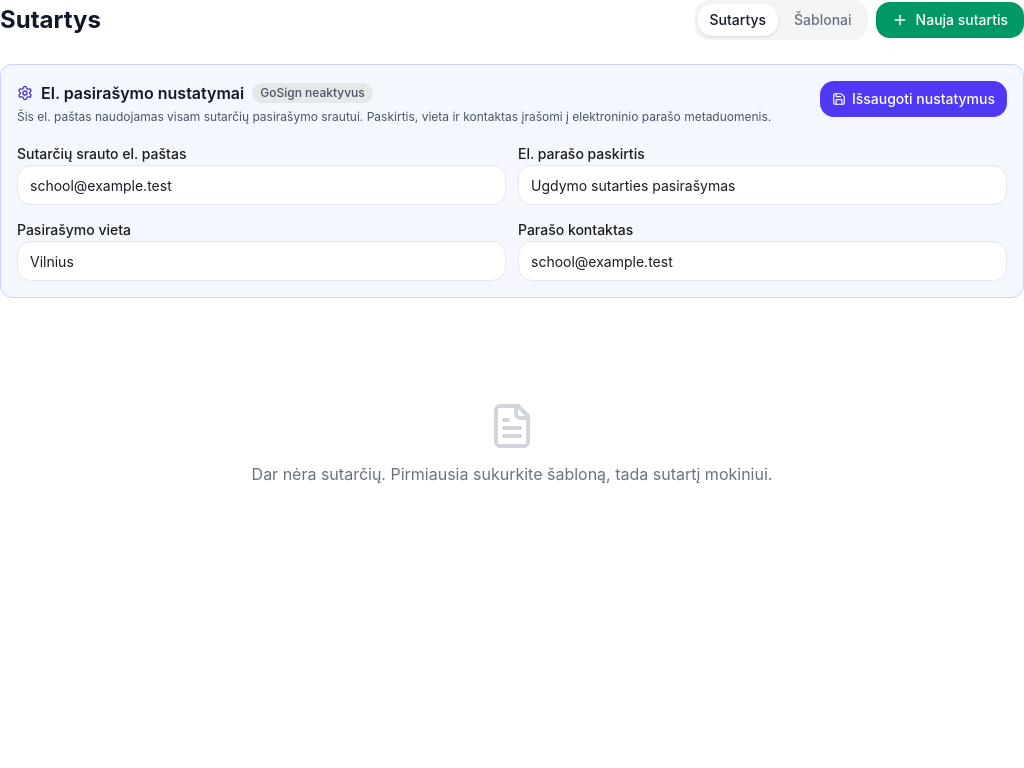
Test: CompanyContracts 20% discount checkbox › shows the discounted amount when checked (default 300 → 240.00)
Click the button "Nauja sutartis": (950, 20) top-left (876, 2), bottom-right (1023, 38)
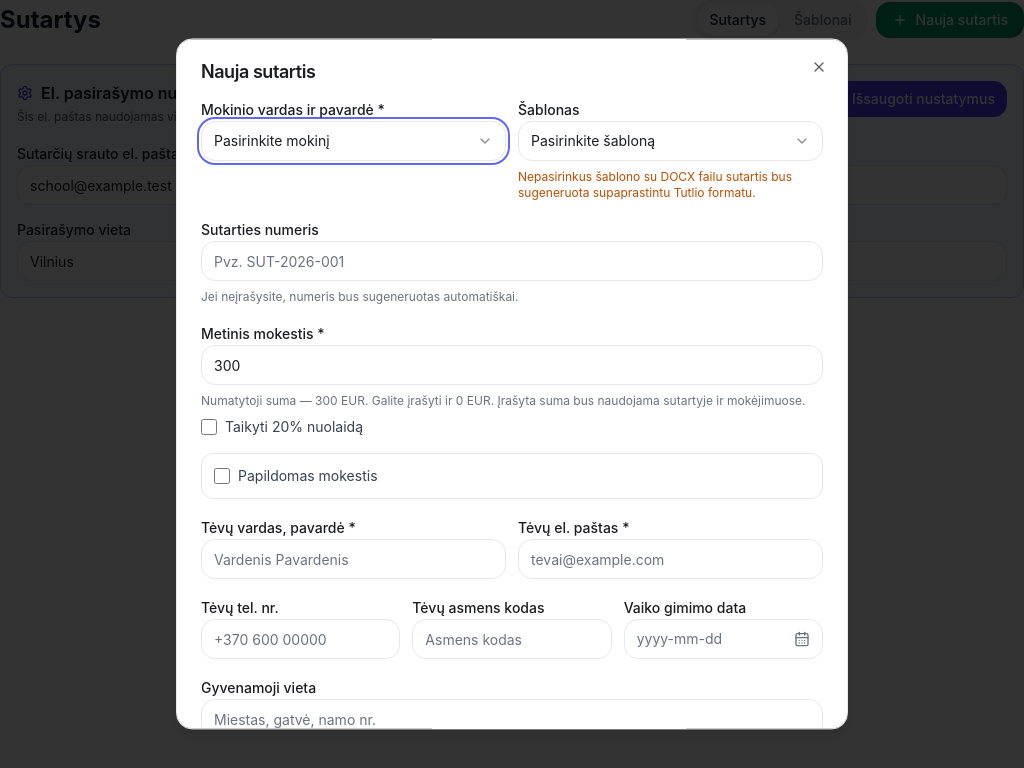
Click the checkbox labelled "Taikyti 20% nuolaidą": (209, 427) top-left (201, 419), bottom-right (217, 435)
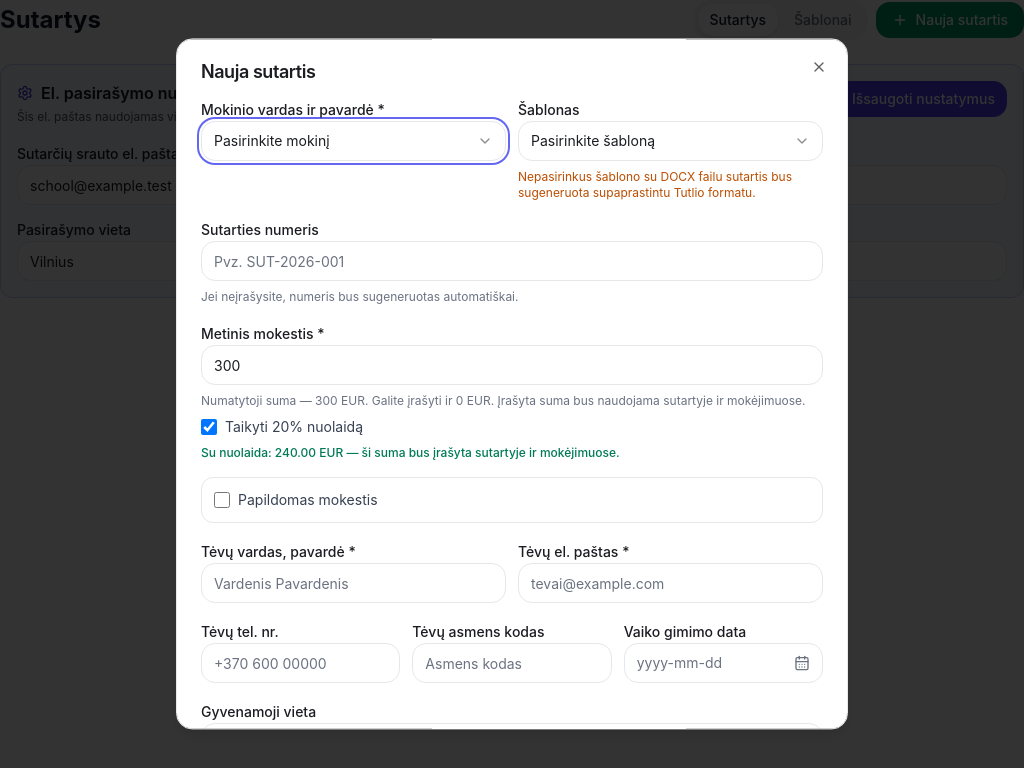
Result: the text "Su nuolaida: 240.00 EUR — ši suma bus įrašyta sutartyje ir mokėjimuose." is shown at top-left (201, 445), bottom-right (620, 460)
